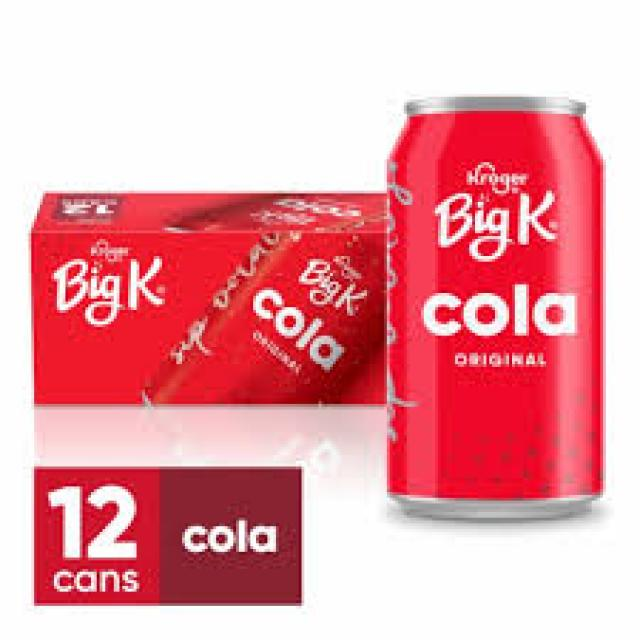Cans: (372, 85, 614, 532)
